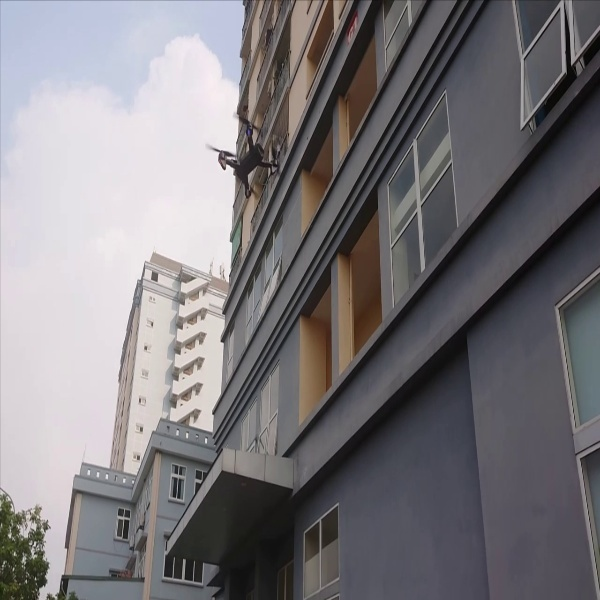drone: (204, 108, 287, 204)
